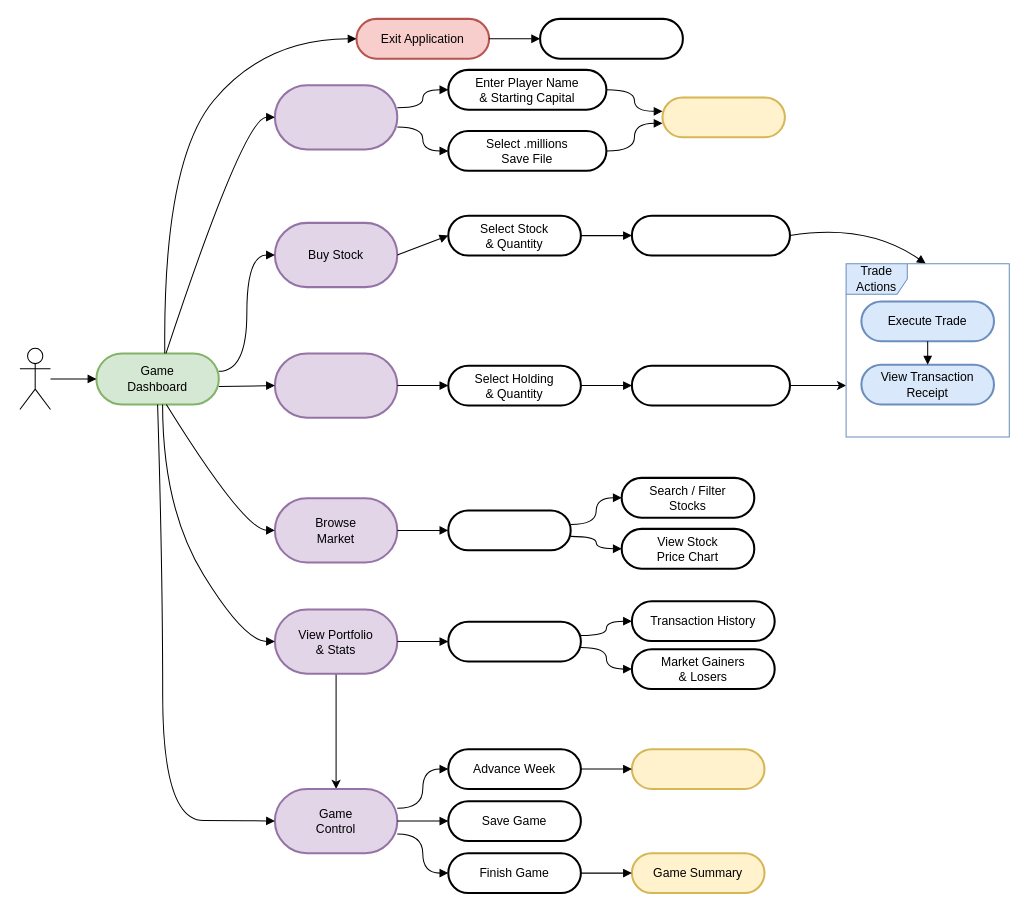
Image size: 1027x911. Some labels were removed from this diagram. Here are the shapes that lost their labels. From the top down, the box of each, then its label:
(539, 17, 683, 59): Confirm Exit Dialog
(273, 84, 398, 150): New / Load Game
(661, 96, 785, 138): Game Loaded!
(630, 214, 790, 256): Preview Purchase Cost & Commission
(19, 347, 50, 410): Player
(273, 352, 398, 418): Sell Stock
(630, 364, 790, 406): Preview Proceeds & Capital-Gains Tax
(447, 509, 571, 551): Market Table
(447, 620, 581, 662): Holdings Table
(630, 748, 765, 789): Stock Prices Updated
